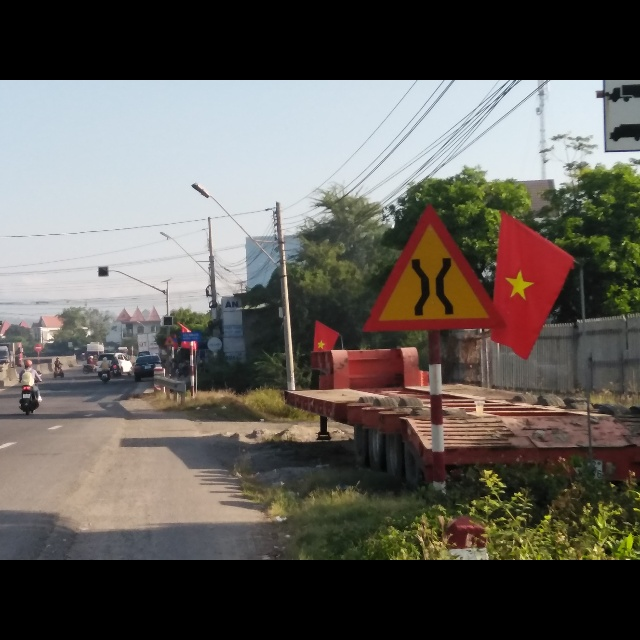Cầu hẹp: (361, 197, 509, 333)
